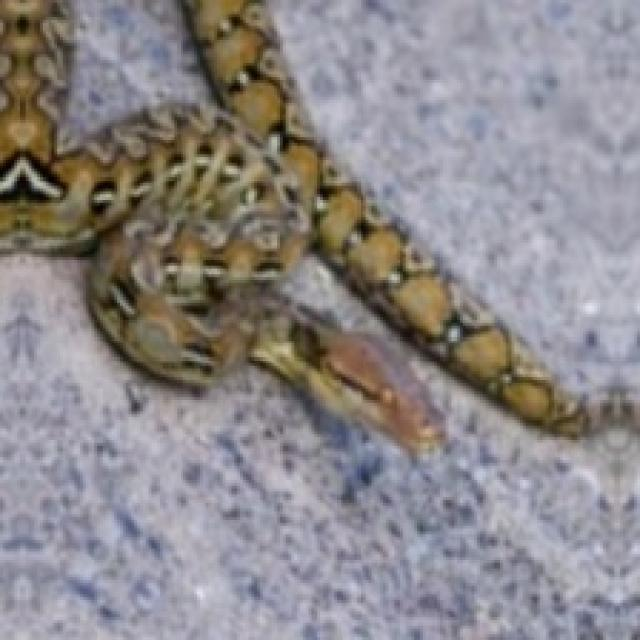reticulated python: (0, 0, 583, 451)
